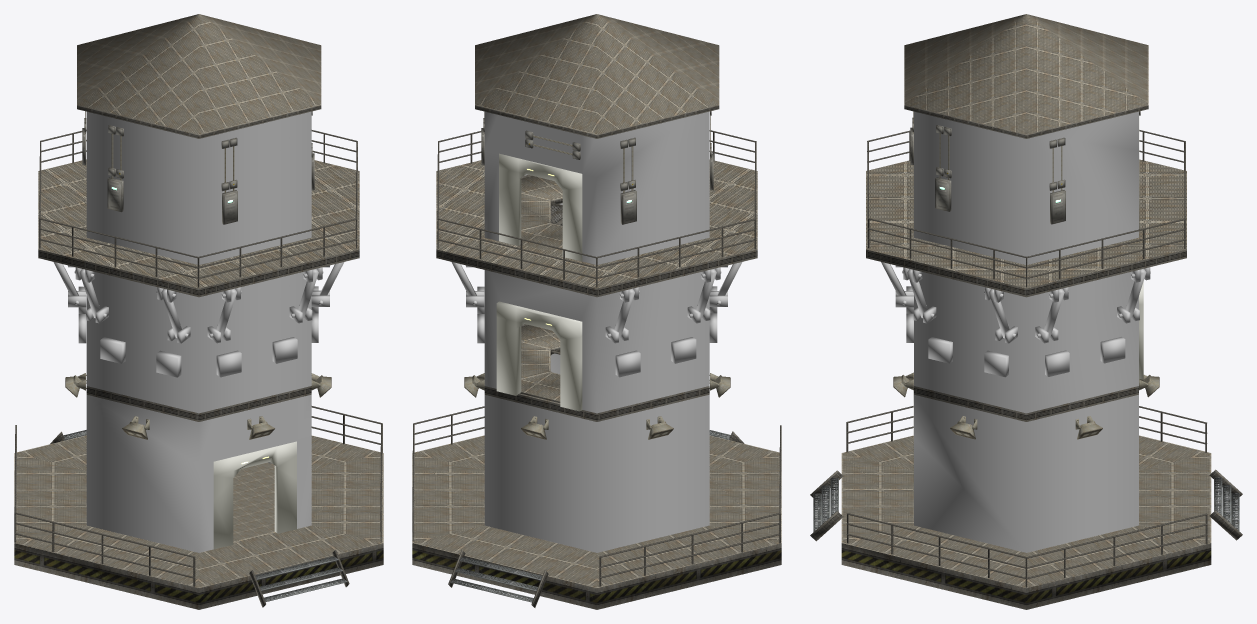
File: tower.fbx
The picture shows the model from 3 angles, left to right: view 1: azimuth 30°, elevation 25°; view 2: azimuth 150°, elevation 25°; view 3: azimuth 270°, elevation 25°; orthographic projection.
Parts seen in each view (by area): view 1: Mesh; view 2: Mesh; view 3: Mesh.
Part boxes in pixels (bbox=[...]): Mesh: bbox=[14, 14, 383, 609]; Mesh: bbox=[412, 14, 781, 609]; Mesh: bbox=[810, 14, 1242, 609].
Bounding box in the file's own units: 886 × 1162 × 899.
